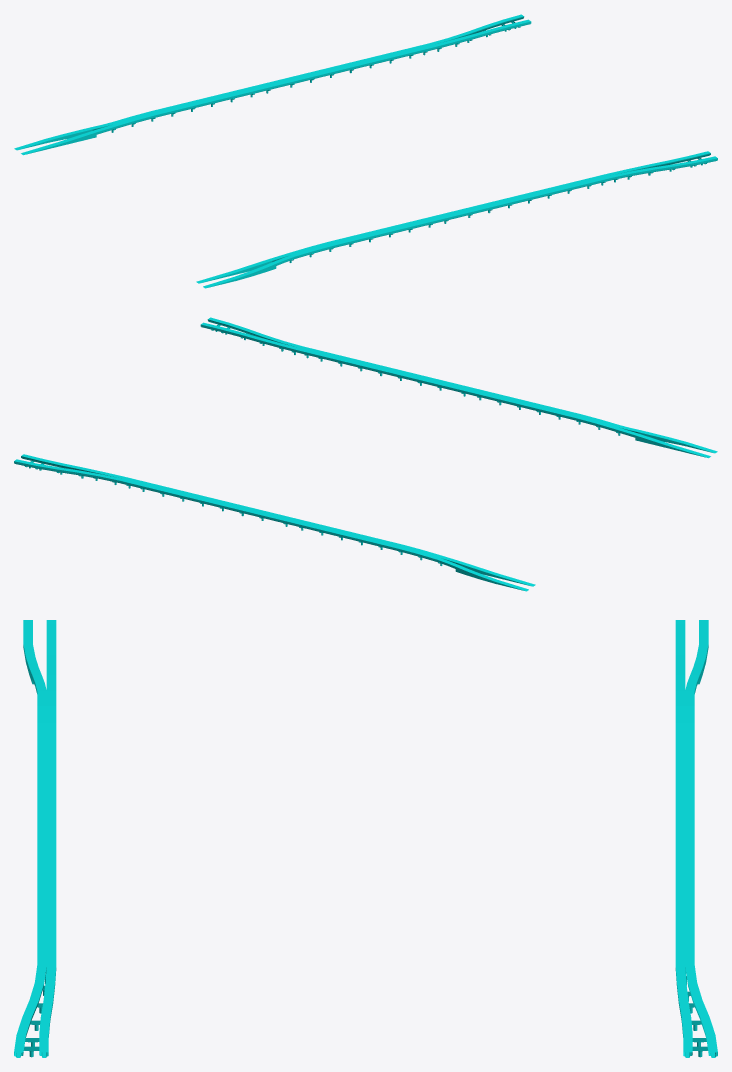
The model's file is Bridge_0621.fbx.
3 renders of one model, top to bottom at view 1: azimuth 30°, elevation 25°; view 2: azimuth 150°, elevation 25°; view 3: azimuth 270°, elevation 25°, orthographic. The views are drawn at different scales.
Visible parts, largest first — view 1: T2_plane:T2_plane:polySurface2800; view 2: T2_plane:T2_plane:polySurface2800; view 3: T2_plane:T2_plane:polySurface2800.
Boxes of the visible parts, x1=… form: T2_plane:T2_plane:polySurface2800: x1=14, y1=14, x2=717, y2=288; T2_plane:T2_plane:polySurface2800: x1=14, y1=317, x2=717, y2=591; T2_plane:T2_plane:polySurface2800: x1=14, y1=620, x2=717, y2=1057.
Size of the model in its own units: 523 by 9.03 by 349.
